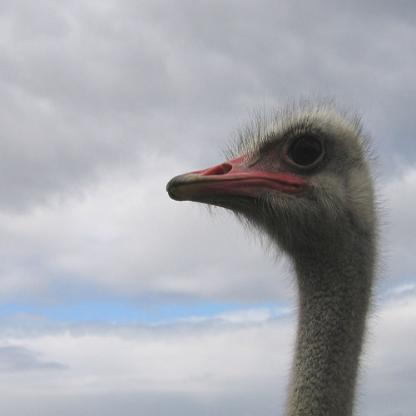bird: (164, 95, 388, 415)
